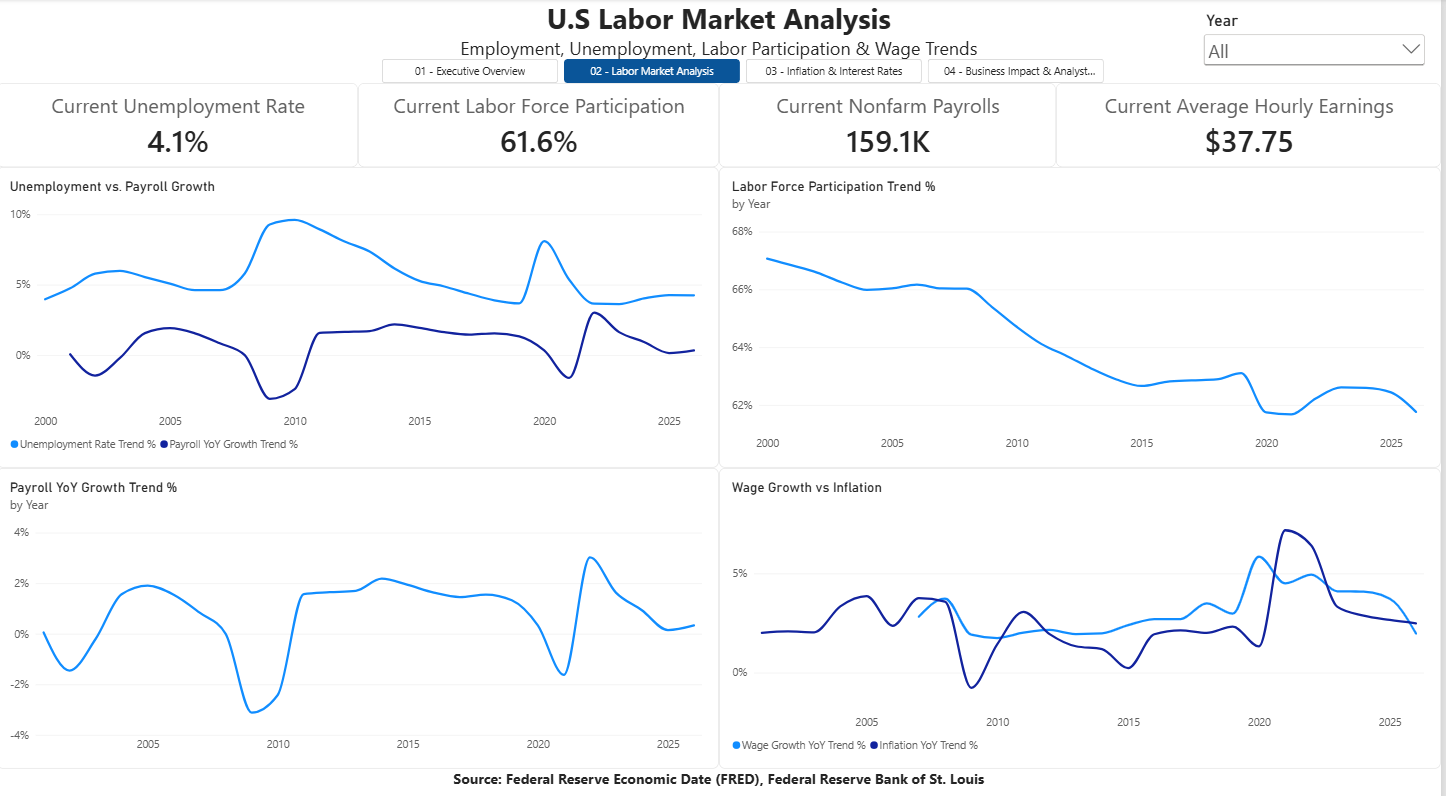

Layout of this report page (visuals, bound fields, positions):
{"tool":"powerbi","page":{"name":"02 - Labor Market Analysis","canvas":[1920,1080],"ordinal":1},"visuals":[{"type":"textbox","box":[0,0,1920,64],"z":0},{"type":"textbox","box":[0,48,1920,32],"z":1},{"type":"cardVisual","fields":{"Data":["Fact_Unemployment.Current Unemployment Rate"]},"box":[0,112,480,112],"z":2},{"type":"cardVisual","fields":{"Data":["Fact_Labor_Force.Current Labor Force Participation"]},"box":[480,112,480,112],"z":3},{"type":"cardVisual","fields":{"Data":["Fact_Payrolls.Current Nonfarm Payrolls"]},"box":[960,112,448,112],"z":4},{"type":"cardVisual","fields":{"Data":["Measurers.Current Average Hourly Earnings"]},"box":[1408,112,512,112],"z":5},{"type":"lineChart","title":"Unemployment vs. Payroll Growth","fields":{"Category":["Dim_Month.Month Start.Variation.Date Hierarchy.Year","Dim_Month.Month Start.Variation.Date Hierarchy.Quarter","Dim_Month.Month Start.Variation.Date Hierarchy.Month","Dim_Month.Month Start.Variation.Date Hierarchy.Day"],"Y":["Measurers.Unemployment Rate Trend","Measurers.Payroll YoY Growth Trend %"]},"box":[0,224,960,400],"z":6},{"type":"lineChart","fields":{"Category":["Dim_Month.Month Start.Variation.Date Hierarchy.Year","Dim_Month.Month Start.Variation.Date Hierarchy.Quarter","Dim_Month.Month Start.Variation.Date Hierarchy.Month","Dim_Month.Month Start.Variation.Date Hierarchy.Day"],"Y":["Measurers.Labor Force Participation Trend"]},"box":[960,224,960,400],"z":7},{"type":"lineChart","fields":{"Category":["Dim_Month.Month Start.Variation.Date Hierarchy.Year","Dim_Month.Month Start.Variation.Date Hierarchy.Quarter","Dim_Month.Month Start.Variation.Date Hierarchy.Month","Dim_Month.Month Start.Variation.Date Hierarchy.Day"],"Y":["Measurers.Payroll YoY Growth Trend %"]},"box":[0,624,960,400],"z":8},{"type":"lineChart","title":"Wage Growth vs Inflation","fields":{"Category":["Dim_Month.Month Start.Variation.Date Hierarchy.Year","Dim_Month.Month Start.Variation.Date Hierarchy.Quarter","Dim_Month.Month Start.Variation.Date Hierarchy.Month","Dim_Month.Month Start.Variation.Date Hierarchy.Day"],"Y":["Measurers.Wage Growth YoY Trend %","Measurers.Inflation YoY Trend %"]},"box":[960,624,960,400],"z":9},{"type":"slicer","fields":{"Values":["Dim_Month.Year"]},"box":[1600,16,304,80],"z":10},{"type":"textbox","box":[0,1024,1920,48],"z":11},{"type":"pageNavigator","box":[512,80,960,32],"z":12}]}

Visuals, with their boxes in screenshot pixels (x1, y1, x2, y2), scaled from the page's 1920x1080 canvas onto the 1446x796 screenshot:
textbox: 0:0:1445:47
textbox: 0:35:1445:59
cardVisual - Fact_Unemployment.Current Unemployment Rate: 0:83:362:165
cardVisual - Fact_Labor_Force.Current Labor Force Participation: 362:83:723:165
cardVisual - Fact_Payrolls.Current Nonfarm Payrolls: 723:83:1060:165
cardVisual - Measurers.Current Average Hourly Earnings: 1060:83:1445:165
"Unemployment vs. Payroll Growth" lineChart: 0:165:723:460
lineChart - Dim_Month.Month Start.Variation.Date Hierarchy.Year x Dim_Month.Month Start.Variation.Date Hierarchy.Quarter: 723:165:1445:460
lineChart - Dim_Month.Month Start.Variation.Date Hierarchy.Year x Dim_Month.Month Start.Variation.Date Hierarchy.Quarter: 0:460:723:755
"Wage Growth vs Inflation" lineChart: 723:460:1445:755
slicer - Dim_Month.Year: 1205:12:1434:71
textbox: 0:755:1445:790
pageNavigator: 386:59:1109:83
